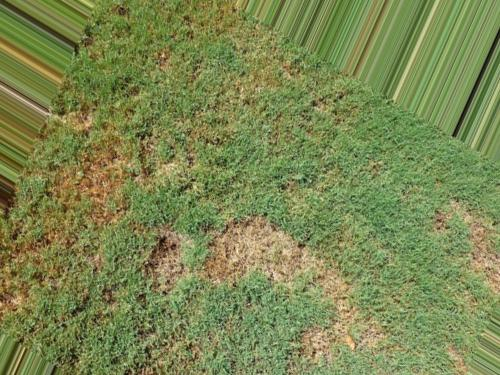patch: (310, 273, 372, 354), (183, 228, 279, 265), (448, 214, 490, 276), (73, 153, 121, 198)
